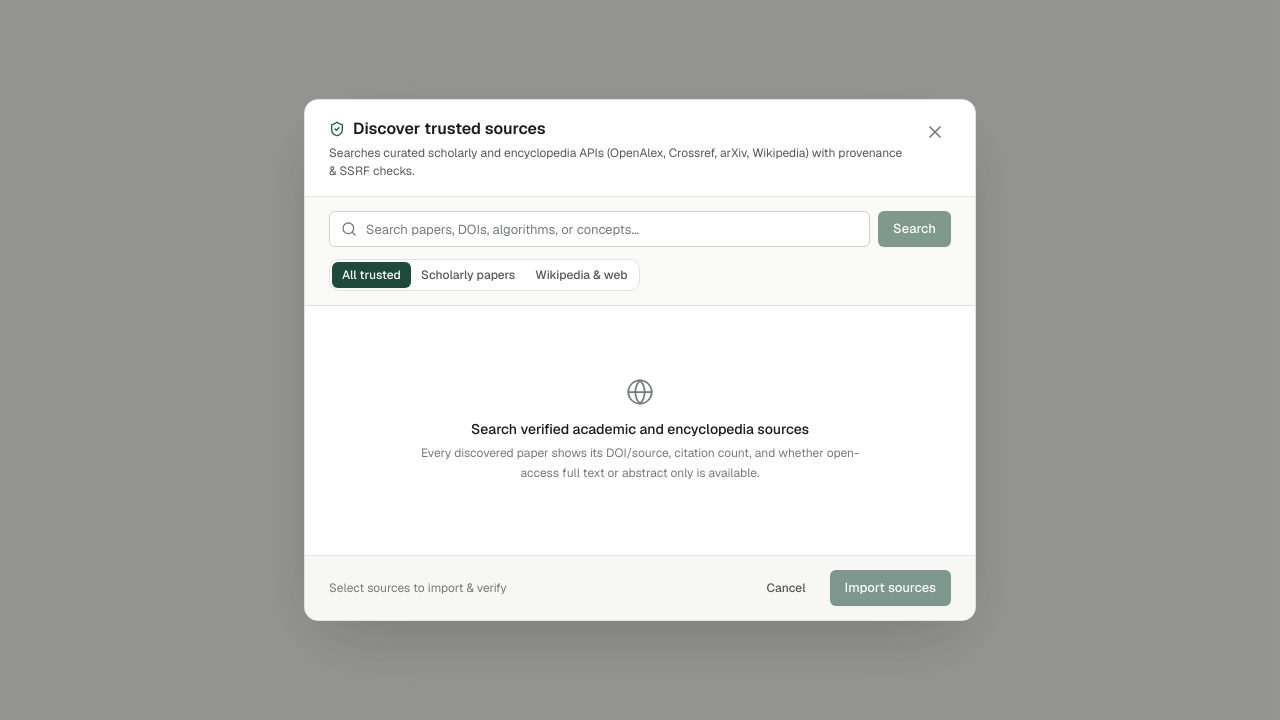
it: Controlled Discovery UI › labels news articles as news from their publisher
This screenshot has width=1280, height=720.
Type "strikes" into the search field named "Search trusted sources".
click(600, 229); type("strikes")  # box [329, 211, 870, 247]
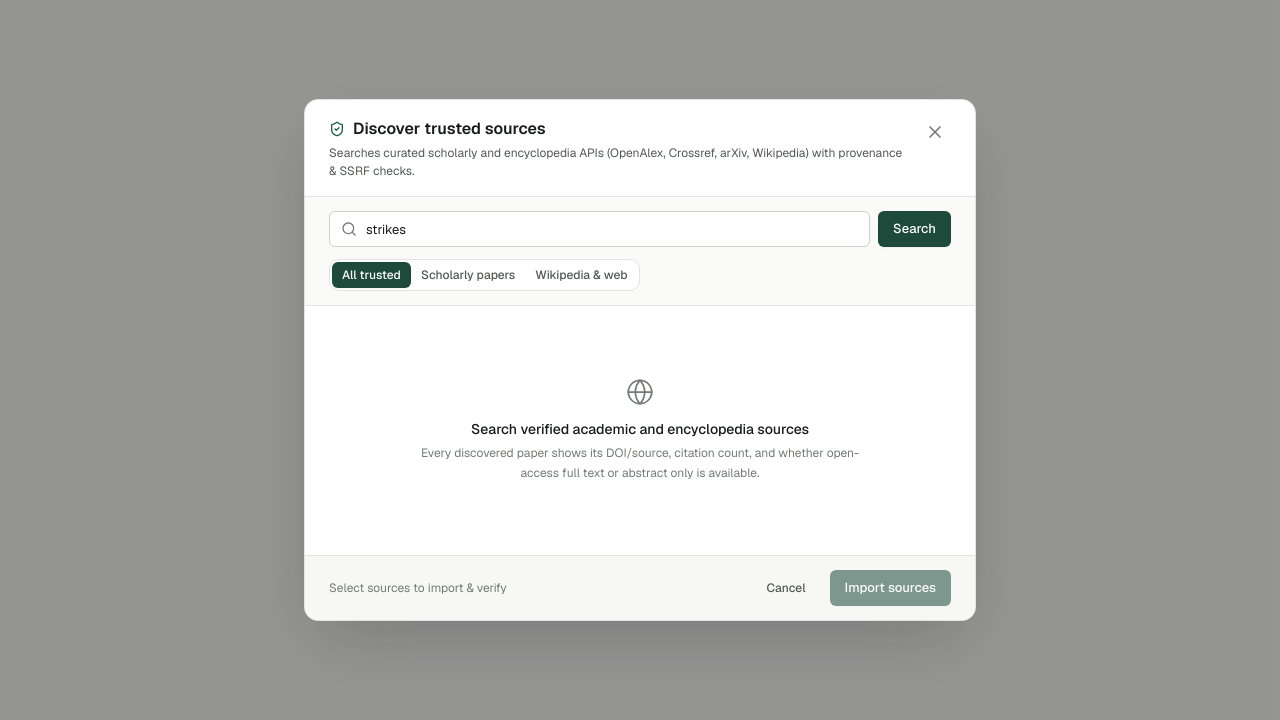
Click the button "Search".
click(914, 229)  # box [878, 211, 951, 247]
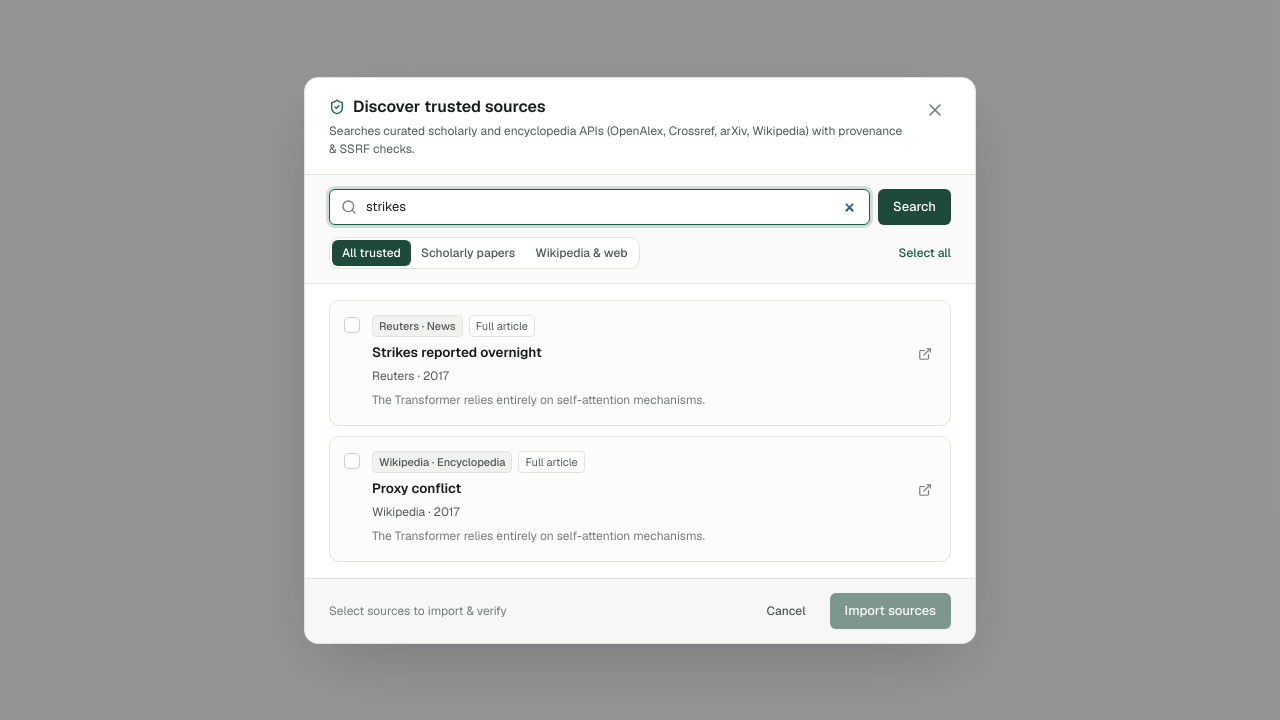
Expected: the text "Reuters · News" is shown, [372, 314, 463, 337]
Expected: the text "Wikipedia · Encyclopedia" is shown, [372, 450, 512, 473]
